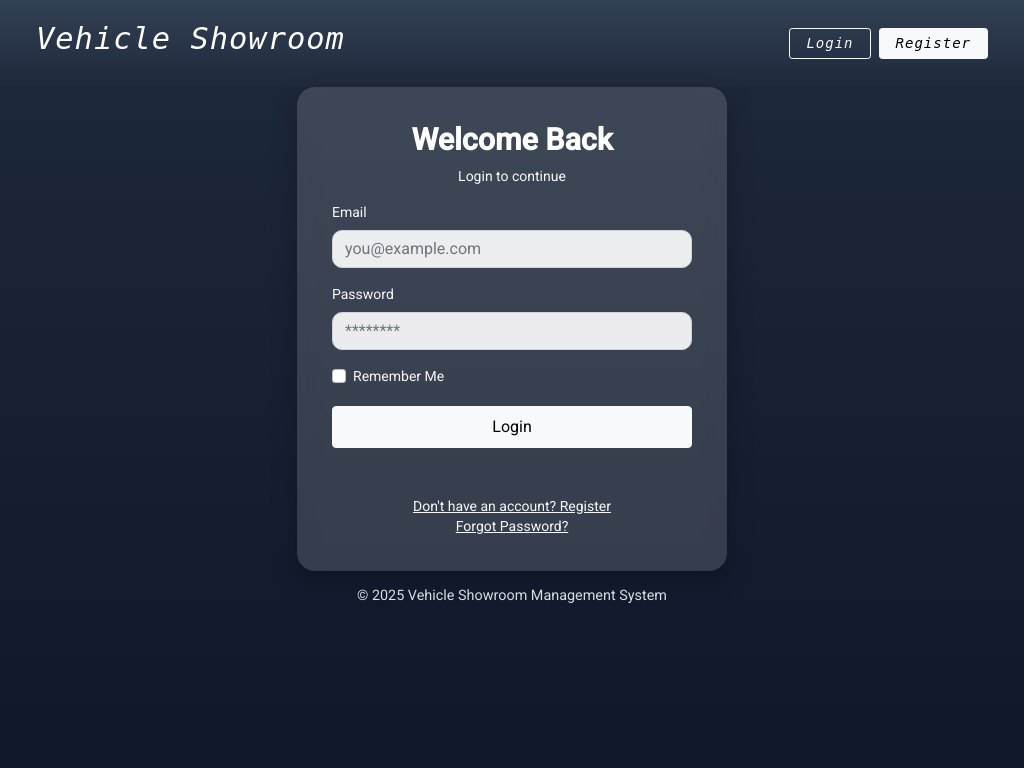
login › displays validation errors for empty fields
Click the submit button at (512, 427), box [332,406,692,448]
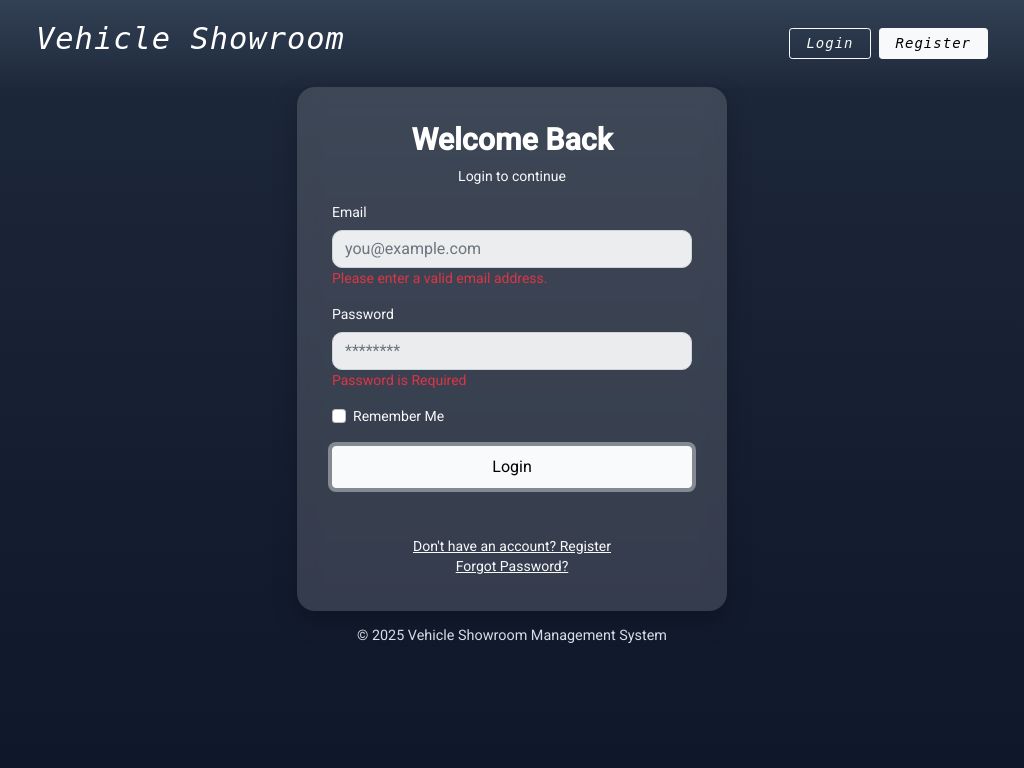
Expected: the text "Please enter a valid email address." is shown, [332,270,548,286]
Expected: the text "Password is Required" is shown, [332,372,466,388]
